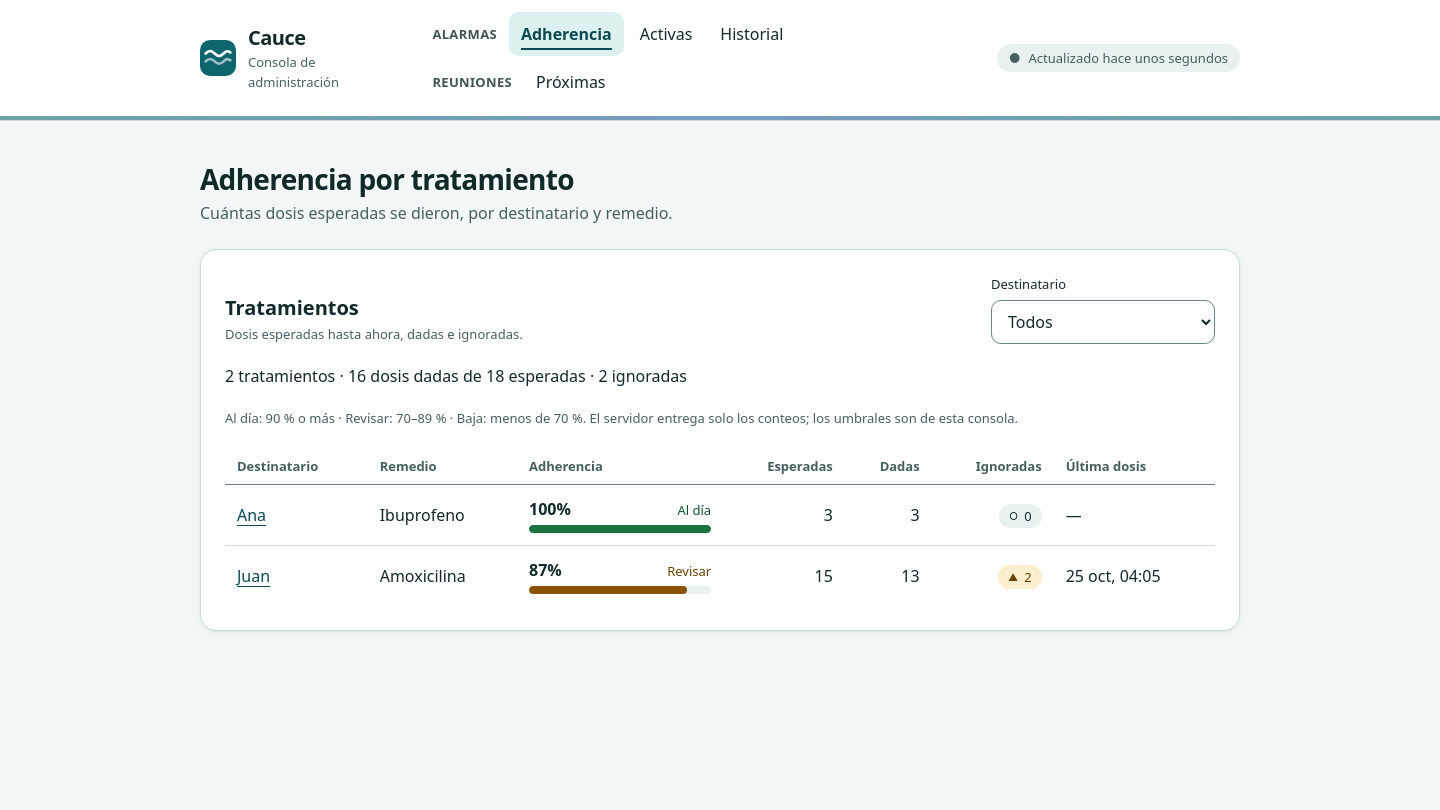
Test: AdherenciaView (P2) › filtra por destinatario
expect the number of rows is 3: met, box left=225, top=448, right=1215, bottom=484; left=225, top=485, right=1215, bottom=546; left=225, top=546, right=1215, bottom=606
Select "Ana" in the dropdown labelled "Destinatario" at (1103, 322), box left=991, top=300, right=1215, bottom=344
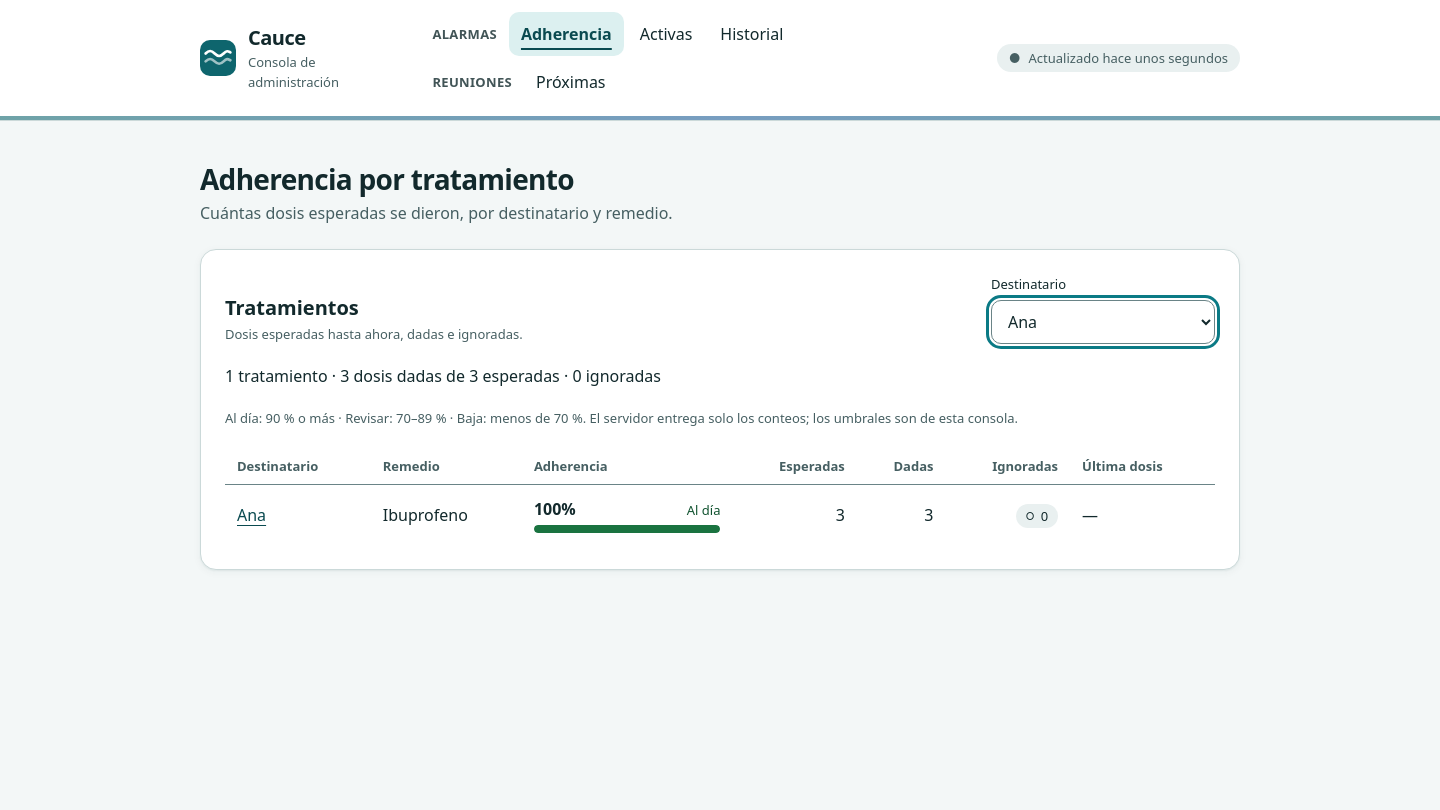
expect the number of rows is 2: met, box left=225, top=448, right=1215, bottom=484; left=225, top=485, right=1215, bottom=545
expect the link "Juan" is gone: met
